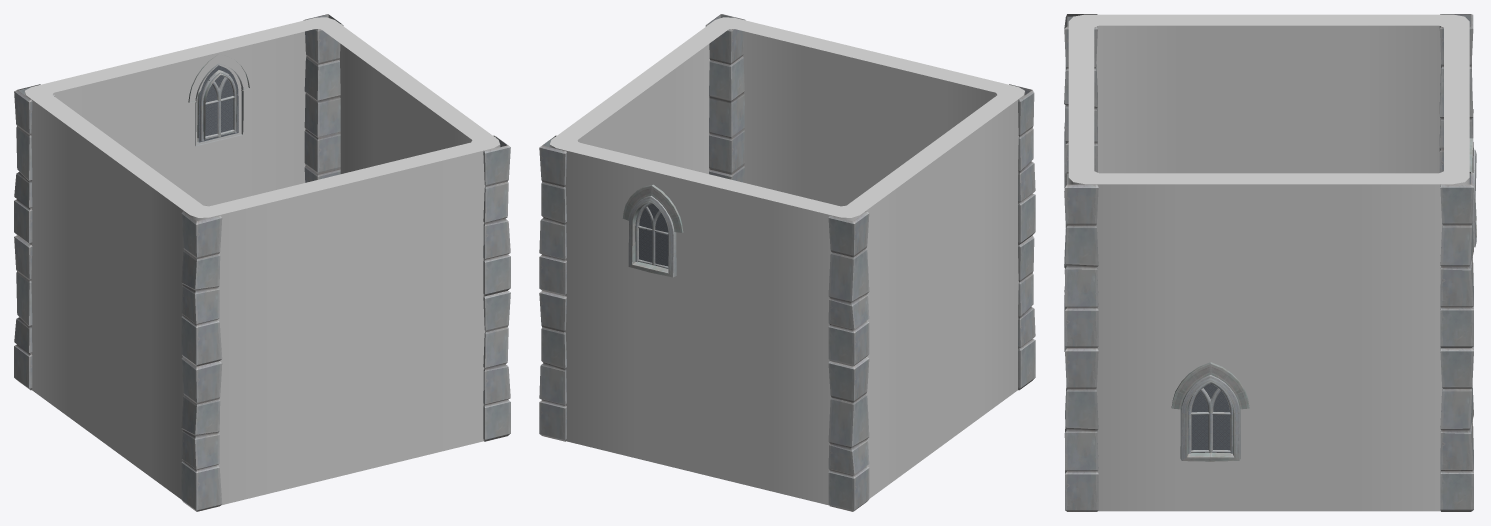
File: SM_TowerE_Mid_03_Window.fbx
3 renders of one model, left to right at view 1: azimuth 30°, elevation 25°; view 2: azimuth 150°, elevation 25°; view 3: azimuth 270°, elevation 25°, orthographic. The views are drawn at different scales.
Visible parts, largest first — view 1: SM_TowerE_Mid_03_Window_LOD0; view 2: SM_TowerE_Mid_03_Window_LOD0; view 3: SM_TowerE_Mid_03_Window_LOD0.
Boxes of the visible parts, x1,y1,x2,y2 form: SM_TowerE_Mid_03_Window_LOD0: [14, 14, 510, 511]; SM_TowerE_Mid_03_Window_LOD0: [539, 14, 1035, 511]; SM_TowerE_Mid_03_Window_LOD0: [1064, 14, 1476, 511].
Size of what is drawn, in the model's own units: 10.29 by 9 by 10.3.
